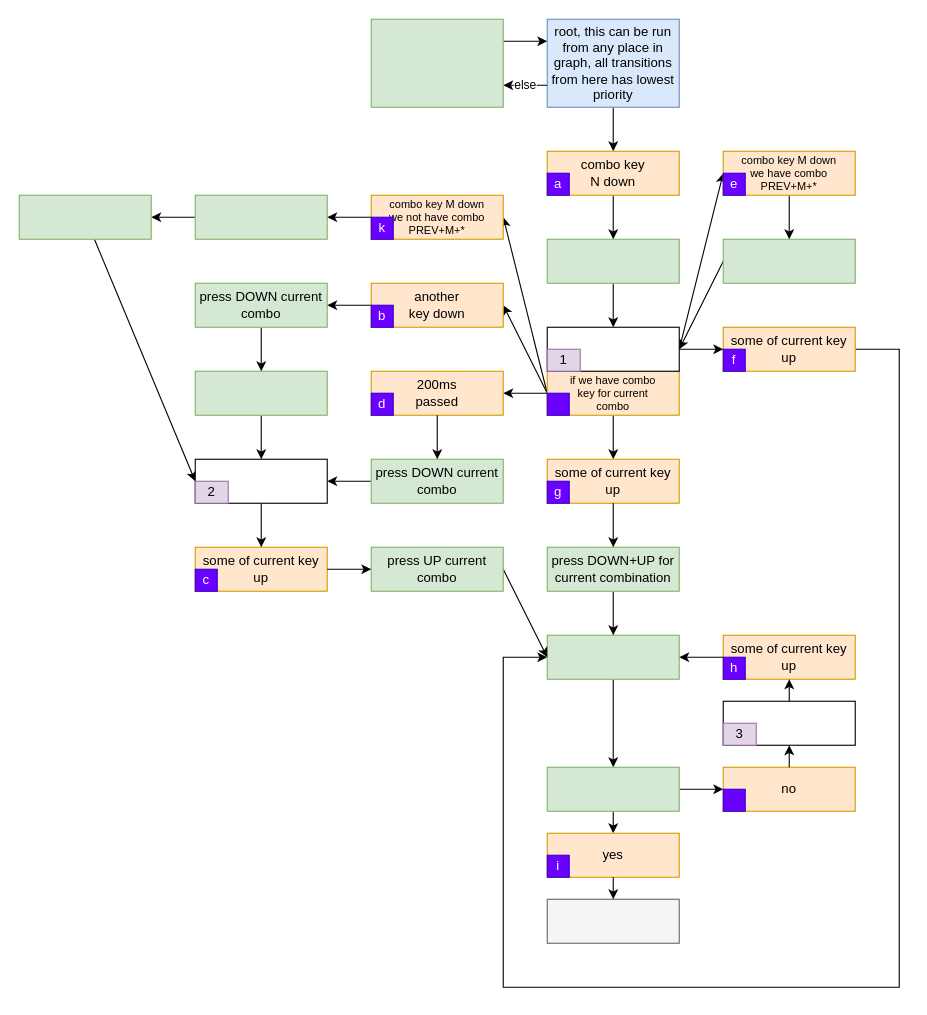
Image size: 927x1015. Some labels were removed from this diagram. Here are the shapes that lost their labels. From the top down, the centre of each, then its label:
At point (436, 62): "process as usual".
At point (84, 216): "say that we didn't process this combo".
At point (260, 216): "press DOWN for current combination".
At point (612, 260): "current combination is this single key, add it to top of the stack".
At point (788, 260): "add current key to combination".
At point (260, 392): "process as usual again".
At point (612, 656): "remove current UP key from array".
At point (612, 788): "no one keys in current array?".
At point (612, 920): "remove current array from stack, end.".
